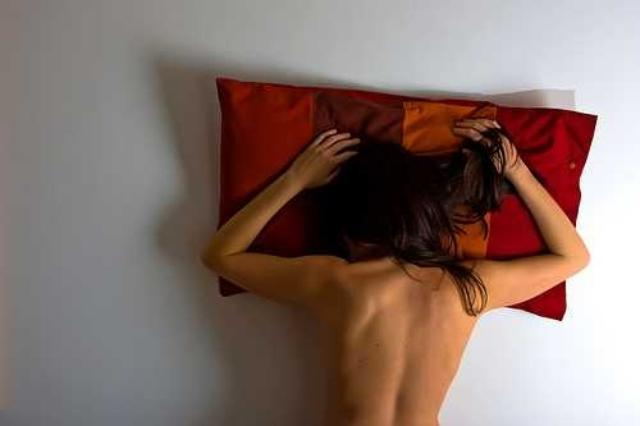pillow: (214, 72, 598, 320)
